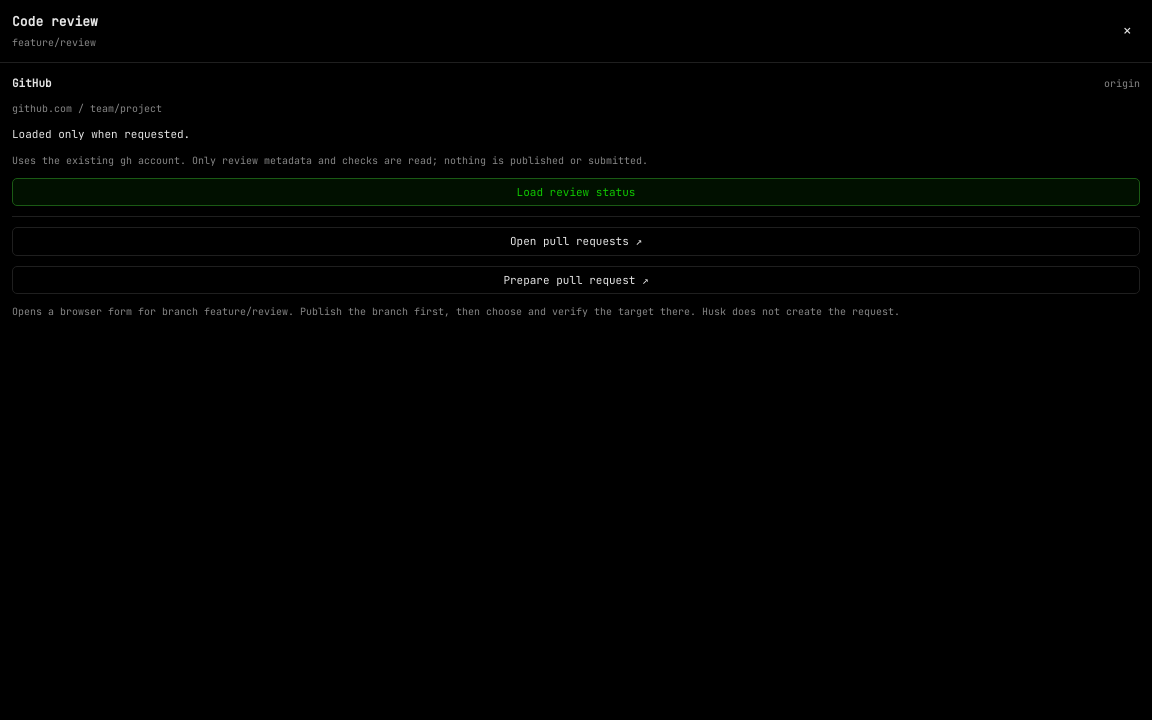
Scenario: does not query provider accounts or open the browser on render or parent polling
Click the button "Load review status" at (576, 192), box [12, 178, 1140, 206]
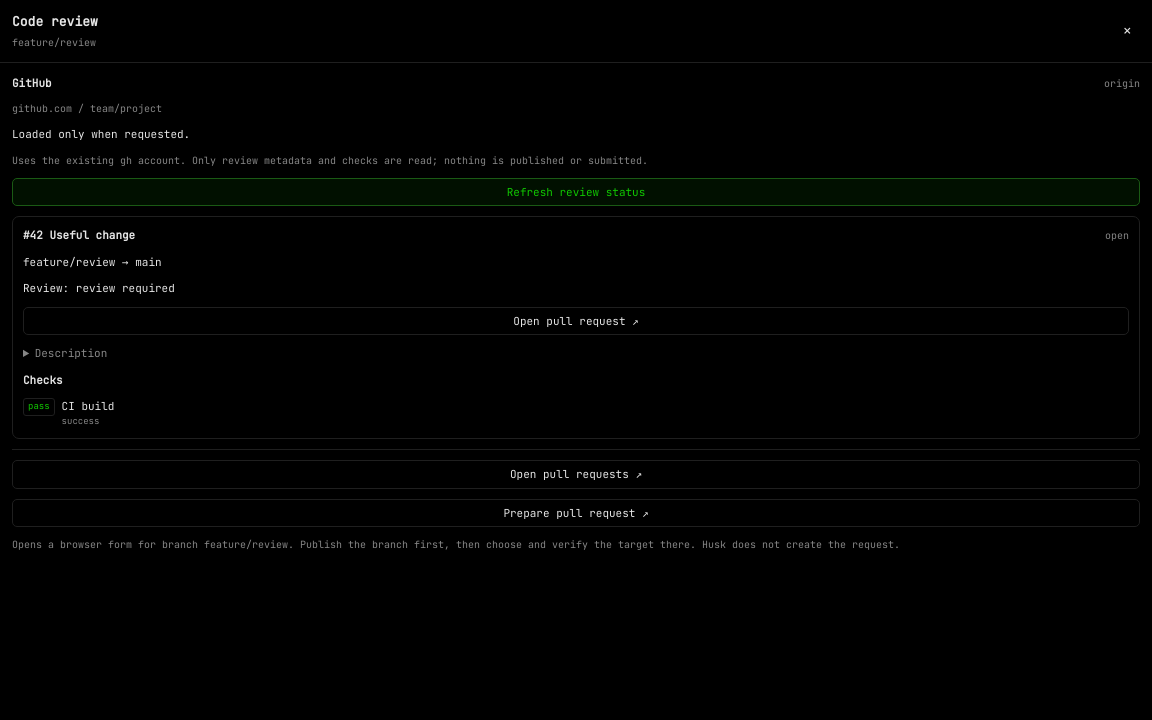
Result: the text "#42 Useful change" is shown at [23, 227, 135, 244]
Result: the text "CI build" is shown at [62, 399, 114, 413]
